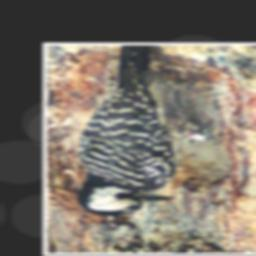Woodpecker: (68, 43, 225, 221)
